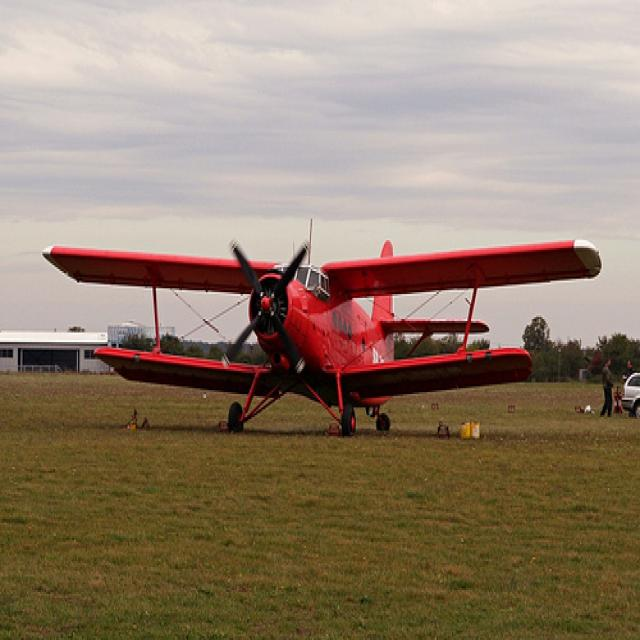light_vehicle: (621, 373, 639, 415)
